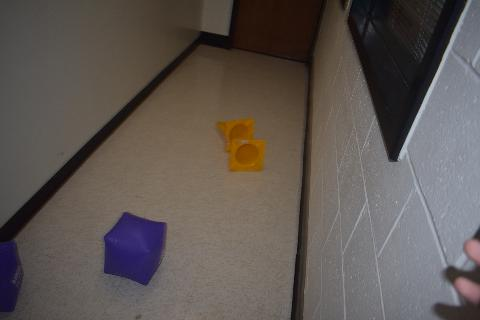cone: (229, 133, 267, 171), (215, 119, 254, 153)
cube: (102, 210, 168, 286), (0, 239, 24, 313)
